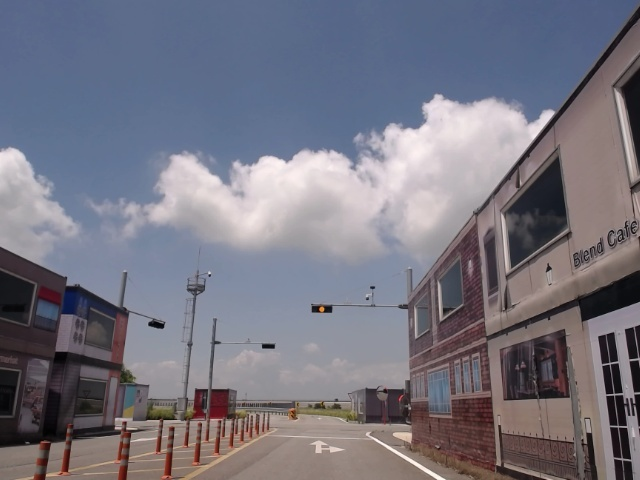orange_3: (312, 305, 332, 314)
